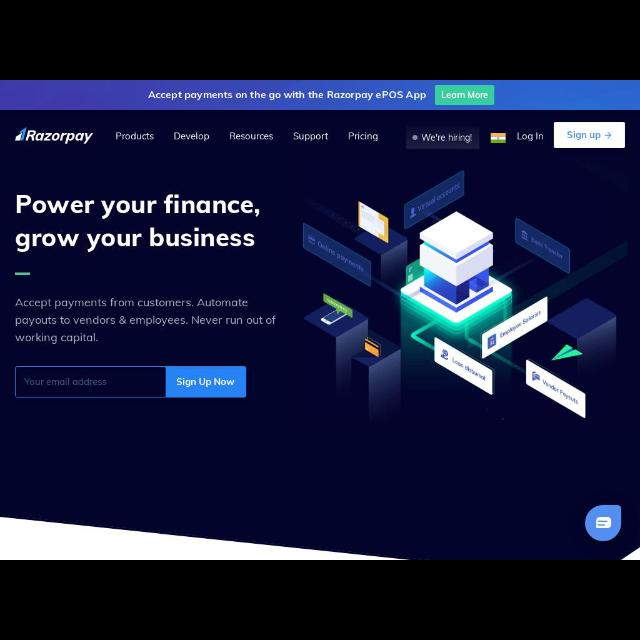button: (583, 500, 623, 546)
icon: (412, 132, 418, 144)
image: (296, 160, 634, 448), (16, 128, 94, 144), (489, 132, 507, 144), (12, 271, 34, 279)
input: (15, 368, 166, 396)
text: (12, 192, 264, 256), (14, 296, 278, 344), (150, 90, 426, 100), (22, 376, 108, 388), (228, 132, 274, 142), (420, 134, 472, 142), (115, 132, 154, 142), (174, 131, 210, 141), (349, 130, 377, 142), (296, 132, 328, 142), (520, 132, 546, 142)
textbutton: (164, 366, 244, 396), (405, 126, 479, 150), (557, 122, 625, 148), (436, 85, 494, 104)
toolbar: (0, 112, 638, 154)
